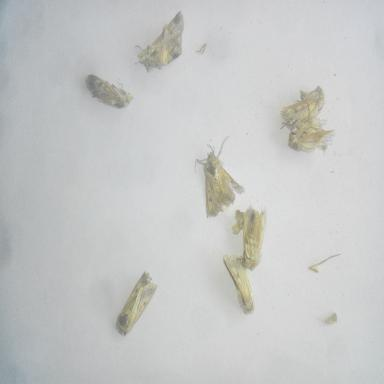abw: (190, 129, 246, 221), (132, 6, 188, 74), (114, 267, 160, 340), (276, 81, 330, 136), (220, 249, 260, 320), (237, 200, 272, 274), (286, 111, 336, 159), (82, 67, 135, 112)
